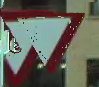Give way: (3, 5, 87, 86)
